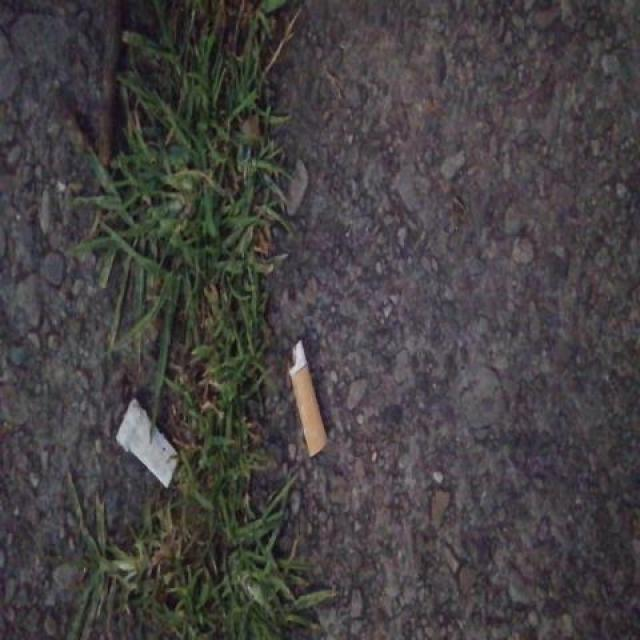non-organic waste: (113, 395, 183, 492), (284, 334, 335, 462)
